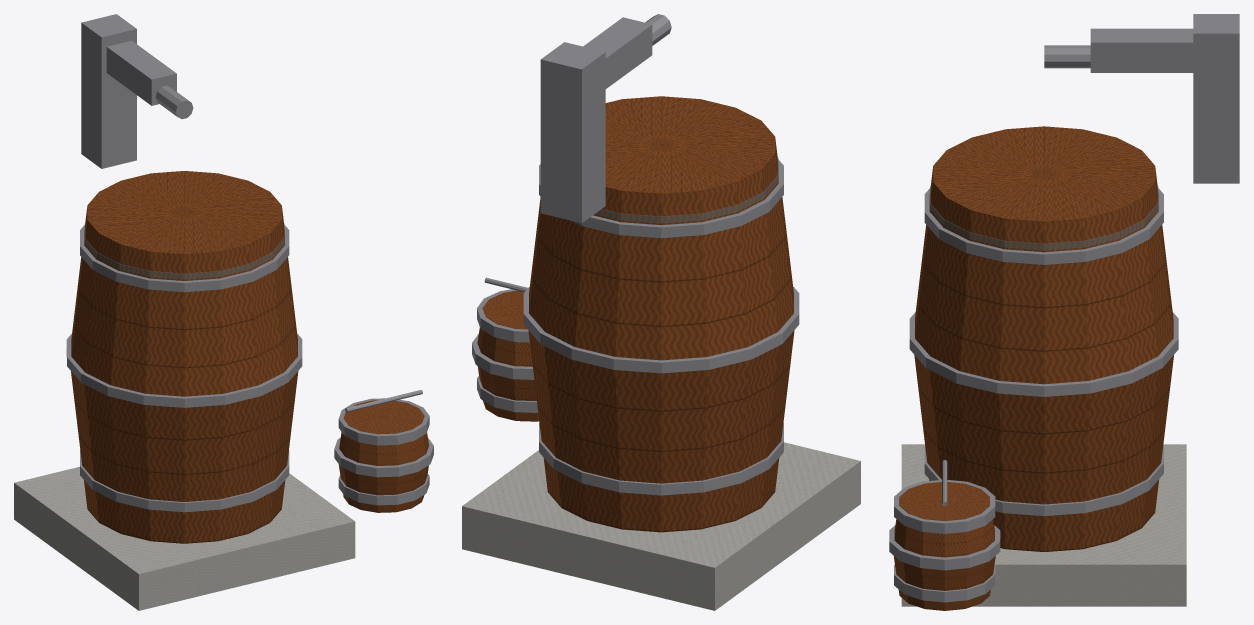
The model's file is blacksmith-forge-and-armoury-blacksmith-forge-and-armo-86a3006a__37567.glb.
3 views of the same model, side by side, from view 1: azimuth 30°, elevation 25°; view 2: azimuth 150°, elevation 25°; view 3: azimuth 270°, elevation 25° (orthographic). The views are drawn at different scales.
Parts seen in each view (by area): view 1: blacksmith-forge-and-armoury-water-butt; view 2: blacksmith-forge-and-armoury-water-butt; view 3: blacksmith-forge-and-armoury-water-butt.
Part boxes in pixels (box(x1,y1,x2,y2)): blacksmith-forge-and-armoury-water-butt: box(14, 14, 433, 610); blacksmith-forge-and-armoury-water-butt: box(462, 14, 860, 610); blacksmith-forge-and-armoury-water-butt: box(889, 14, 1239, 610).
Bounding box in the file's own units: 1.22 × 1.74 × 1.06.
4 materials, 2 textured.
